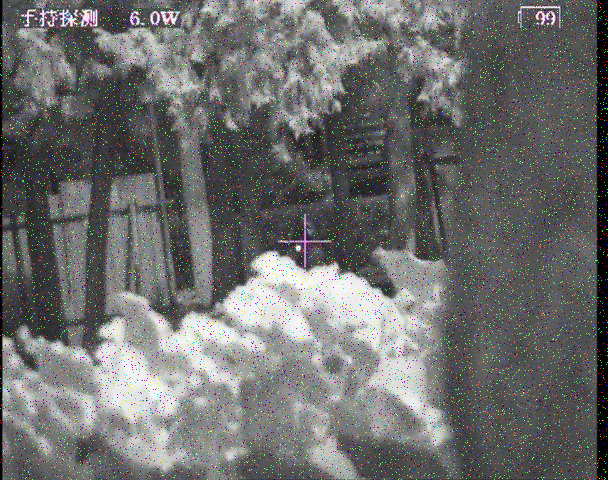my: (295, 244, 303, 253)
